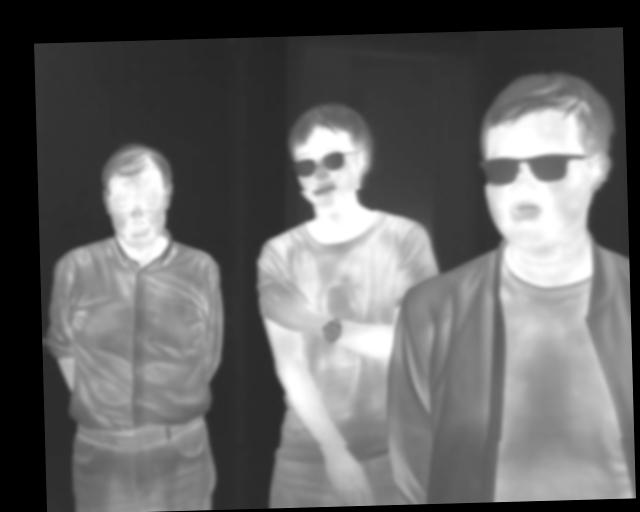face: (473, 68, 616, 254), (286, 98, 375, 211), (100, 142, 175, 249)
